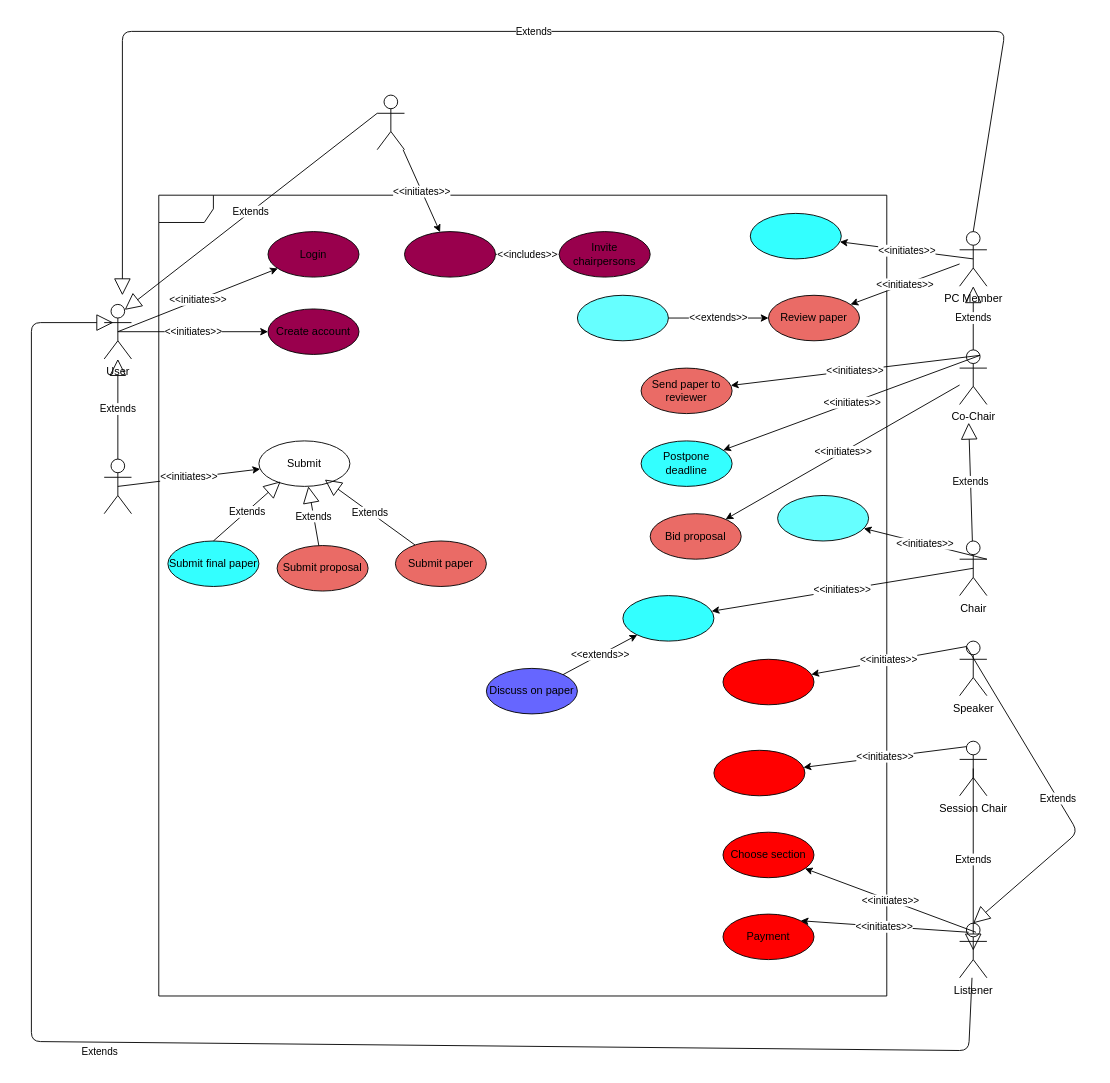
This 1110x1083 diagram has some shape labels left out. The shapes that lost their labels are listed below. From the top down, each one's box as (x1, y1, x2, y2) in pixels, then its label:
(376, 94, 404, 150): Steering Committee member
(404, 231, 495, 277): Schedule conference
(749, 212, 841, 259): Upload results
(576, 294, 668, 341): Attach recommendations
(103, 458, 131, 514): Author
(777, 495, 869, 541): Send results
(158, 194, 887, 996): CMS
(622, 595, 714, 641): Decide on paper
(722, 658, 814, 705): Upload presentation
(713, 749, 805, 796): Modify list of speakers
